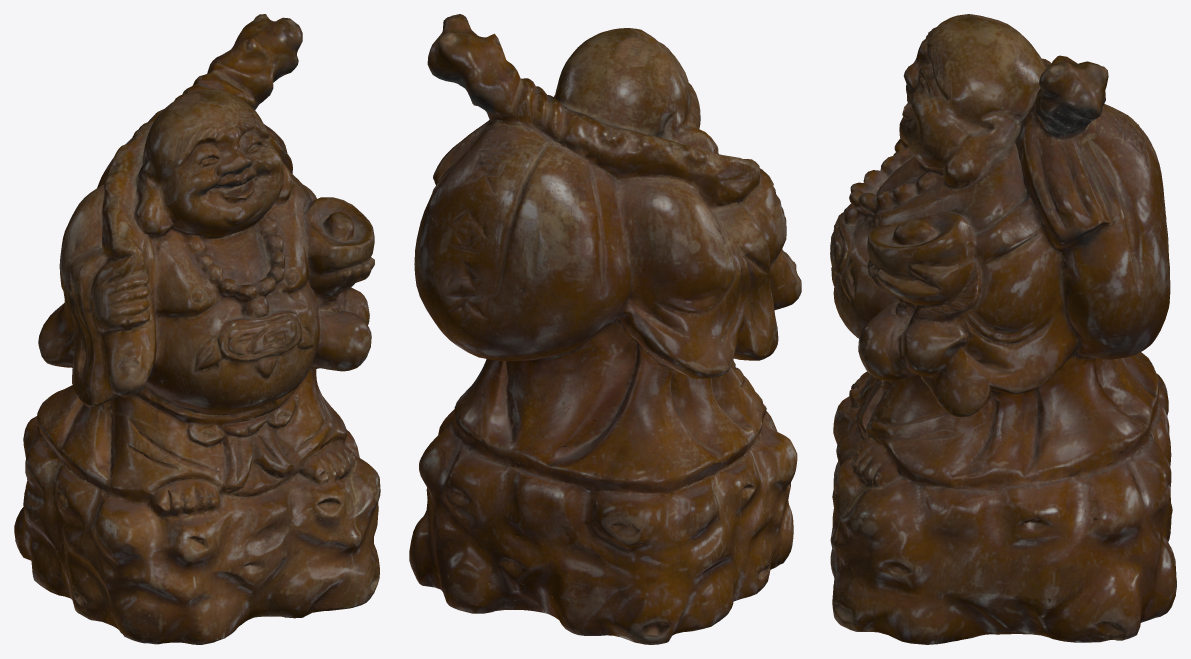
3 renders of one model, left to right at view 1: azimuth 30°, elevation 25°; view 2: azimuth 150°, elevation 25°; view 3: azimuth 270°, elevation 25°, orthographic. The views are drawn at different scales.
Parts seen in each view (by area): view 1: statue-026; view 2: statue-026; view 3: statue-026.
Boxes of the visible parts, x1=… form: statue-026: x1=14, y1=14, x2=380, y2=644; statue-026: x1=409, y1=14, x2=801, y2=644; statue-026: x1=830, y1=14, x2=1176, y2=644.
Bounding box in the file's own units: 0.5644 × 0.9996 × 0.5481.
1 material, 1 textured.
